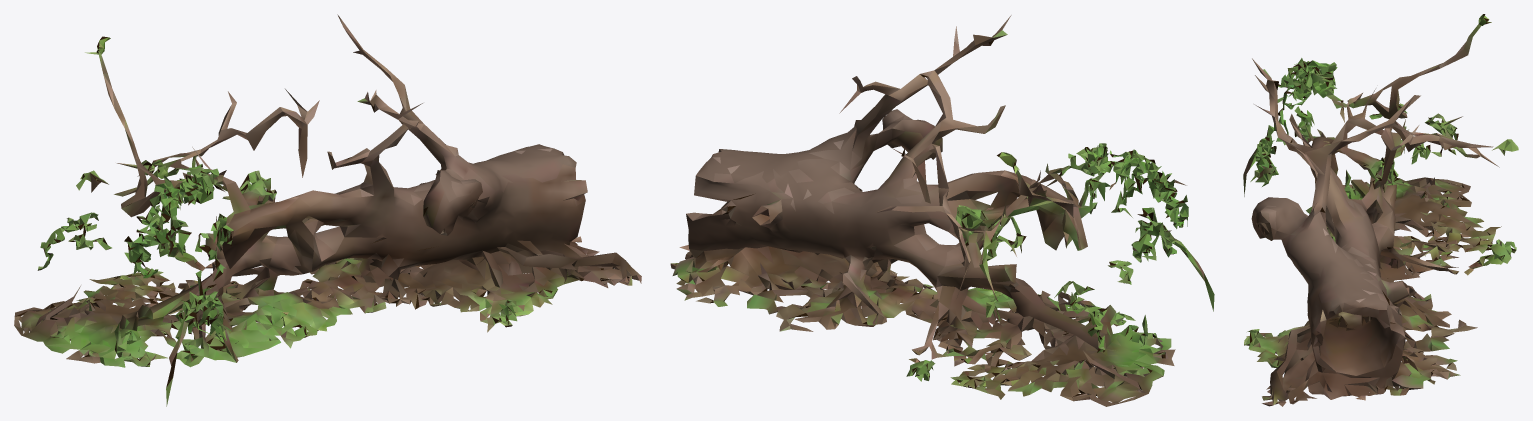
File: LogHollow.glb
3 renders of one model, left to right at view 1: azimuth 30°, elevation 25°; view 2: azimuth 150°, elevation 25°; view 3: azimuth 270°, elevation 25°, orthographic. The views are drawn at different scales.
Parts seen in each view (by area): view 1: LogHollow; view 2: LogHollow; view 3: LogHollow.
Part boxes in pixels (x1,y1,x2,y2): LogHollow: [14, 14, 641, 406]; LogHollow: [670, 15, 1214, 406]; LogHollow: [1243, 14, 1518, 406].
Size of the model in its own units: 3.12 by 1.5 by 1.63.
Materials: 1 (1 with a texture image).
